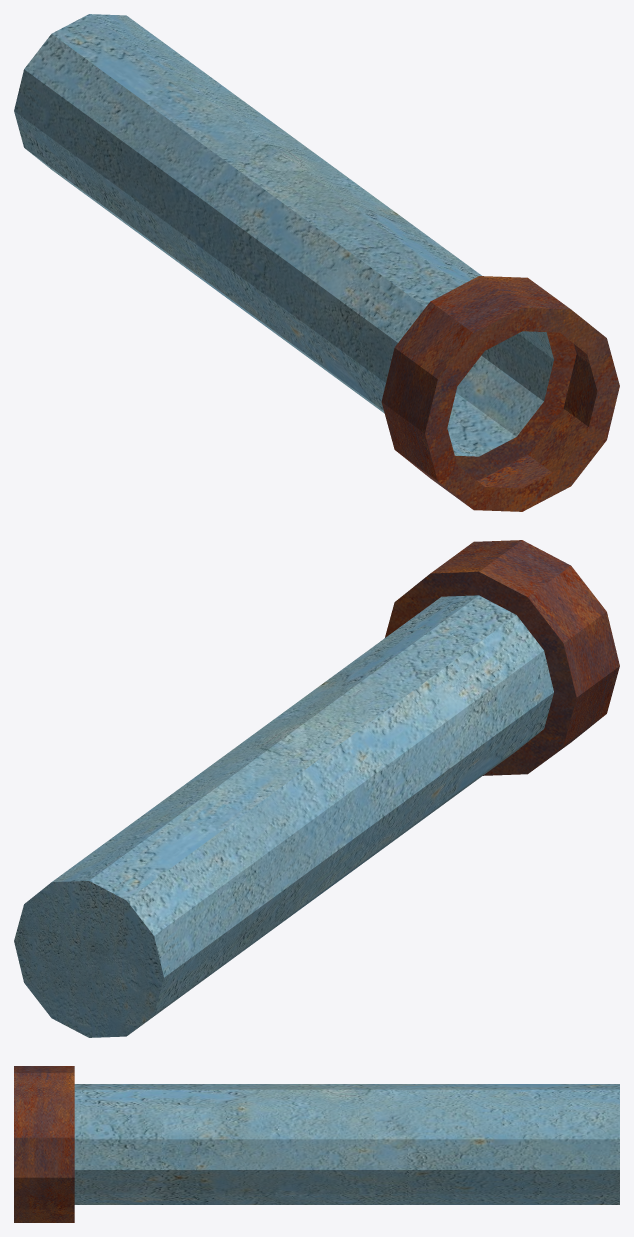
Rendered from pipe01.fbx.
3 renders of one model, top to bottom at view 1: azimuth 30°, elevation 25°; view 2: azimuth 150°, elevation 25°; view 3: azimuth 270°, elevation 25°, orthographic. The views are drawn at different scales.
Parts seen in each view (by area): view 1: Cylinder; view 2: Cylinder; view 3: Cylinder.
Part boxes in pixels (x1,y1,x2,y2): Cylinder: (14,14,619,511); Cylinder: (14,540,619,1037); Cylinder: (14,1066,619,1222).
Size of the model in its own units: 260 by 260 by 1000.
